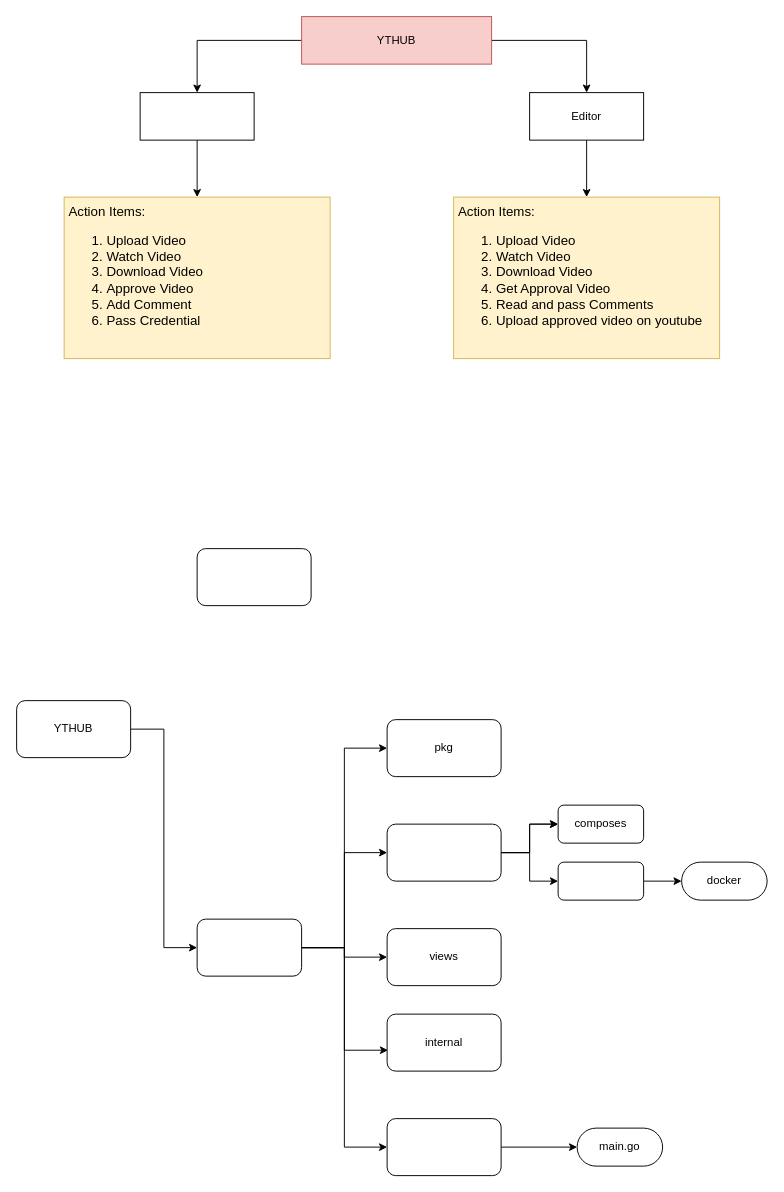
This 784x1192 diagram has some shape labels left out. The shapes that lost their labels are listed below. From the top down, each one's box as (x1, y1, x2, y2) in pixels, then its label:
(139, 92, 254, 140): Creator
(196, 548, 311, 606): frontend
(386, 823, 501, 881): containers
(557, 861, 644, 900): images
(196, 918, 302, 976): backend
(386, 1118, 501, 1176): cmd
